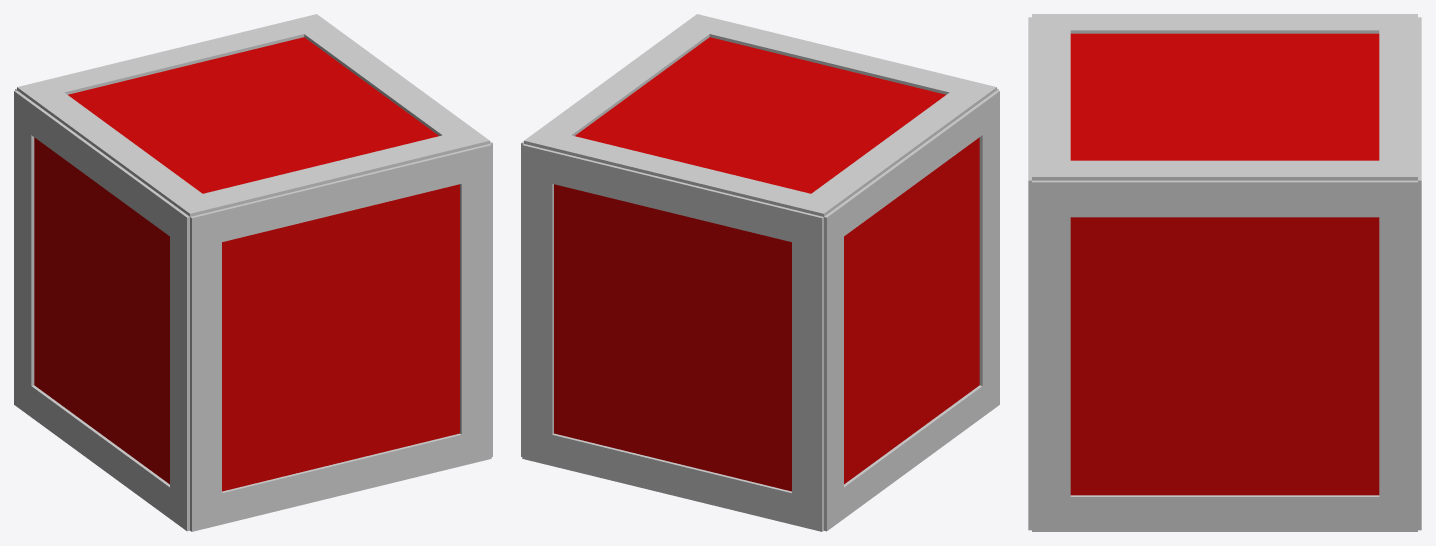
File: Crate1.fbx
3 renders of one model, left to right at view 1: azimuth 30°, elevation 25°; view 2: azimuth 150°, elevation 25°; view 3: azimuth 270°, elevation 25°, orthographic. The views are drawn at different scales.
Parts seen in each view (by area): view 1: Box001; view 2: Box001; view 3: Box001.
Part boxes in pixels (x1,y1,x2,y2): Box001: (14, 14, 492, 531); Box001: (521, 14, 999, 531); Box001: (1028, 14, 1421, 531).
Size of the model in its own units: 102 by 101 by 102.
